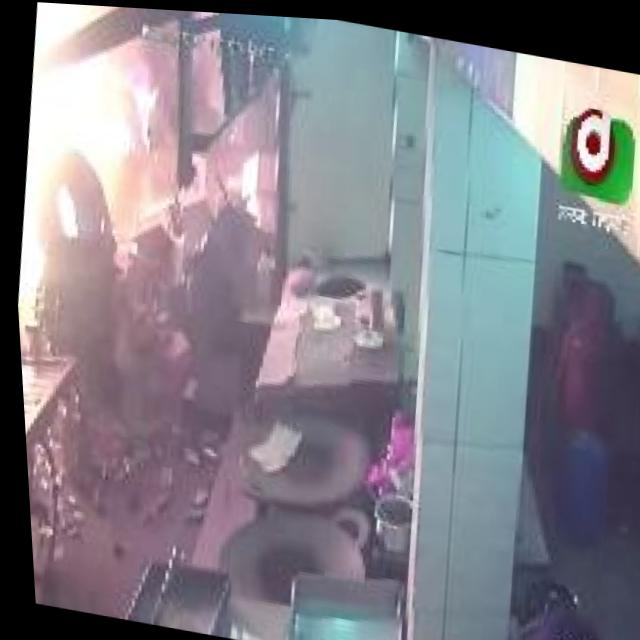fire: (0, 0, 164, 335)
